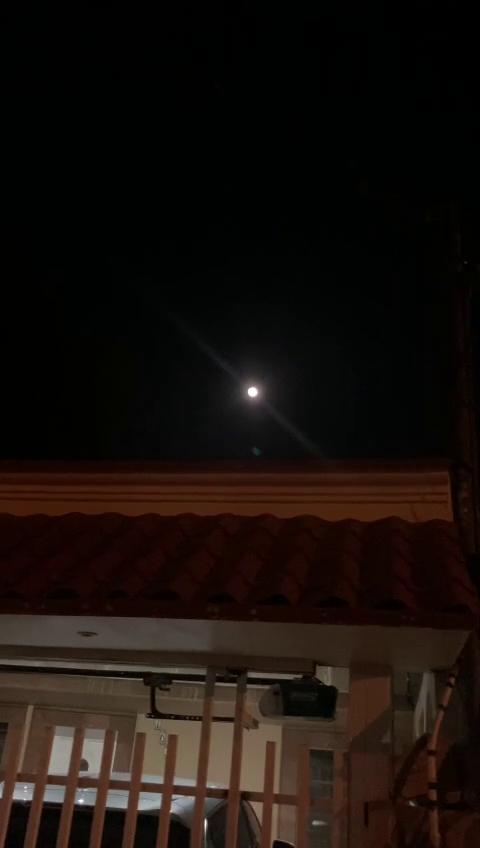moon: (241, 377, 268, 404)
